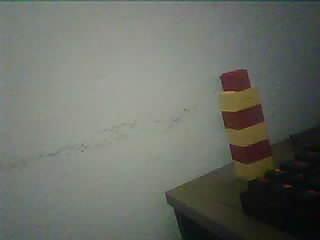lego: (218, 68, 276, 179)
